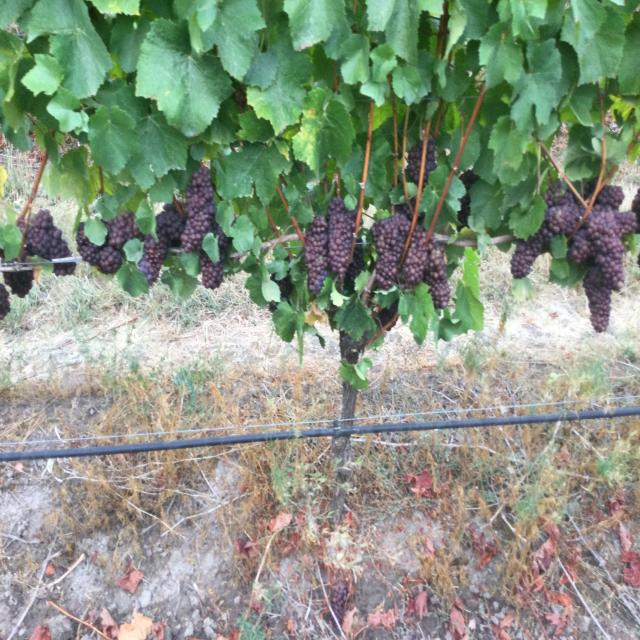grapes: (76, 212, 141, 273), (138, 203, 185, 285), (586, 208, 624, 290), (181, 165, 216, 253), (371, 213, 411, 290), (328, 198, 358, 275), (25, 210, 71, 260), (510, 225, 552, 278), (199, 223, 231, 290), (304, 215, 329, 295), (544, 183, 581, 237), (424, 238, 450, 308), (584, 265, 611, 332), (402, 225, 429, 288), (345, 238, 365, 292), (568, 228, 594, 263), (4, 270, 34, 298), (595, 185, 624, 210), (406, 140, 422, 183), (424, 138, 438, 185), (614, 210, 638, 237), (54, 263, 75, 275)
